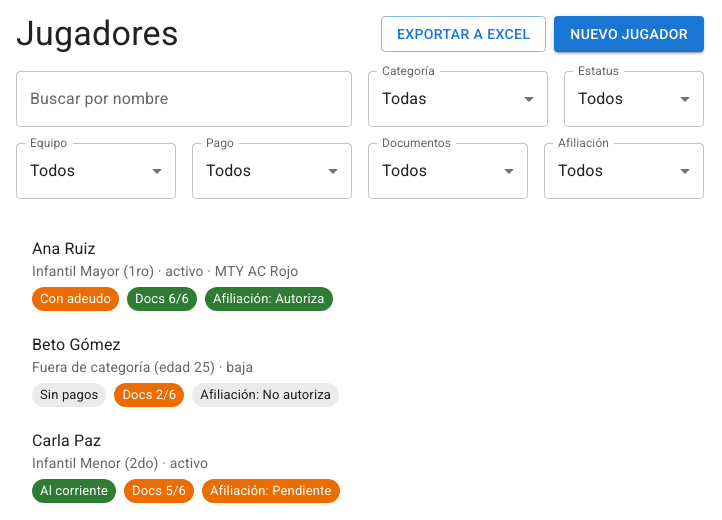
Test: status filter narrows to activos and Todos restores everyone
Check: the text "Beto Gómez" is shown, box 32,335 -> 121,354
Select "Activo" in the dropdown labelled "Estatus". click: (634, 99)
box: 564,71 -> 704,127
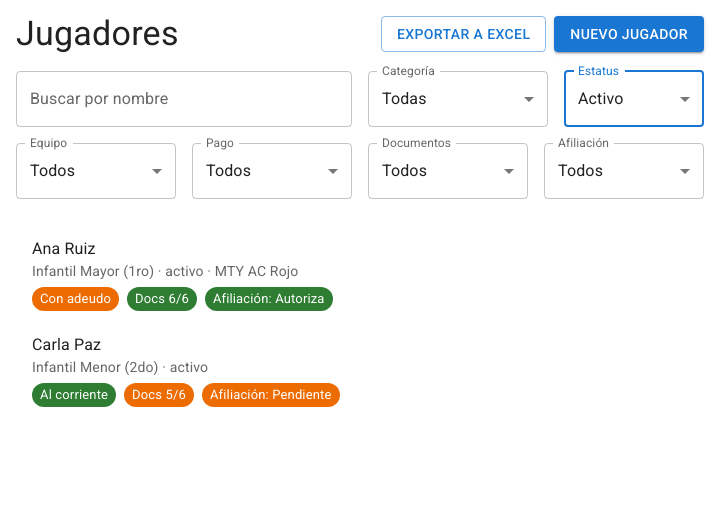
Check: the text "Ana Ruiz" is shown, box 32,239 -> 96,258
Check: the link "Beto Gómez" is gone
Select "Todos" in the dropdown labelled "Estatus". click: (634, 99)
box: 564,71 -> 704,127
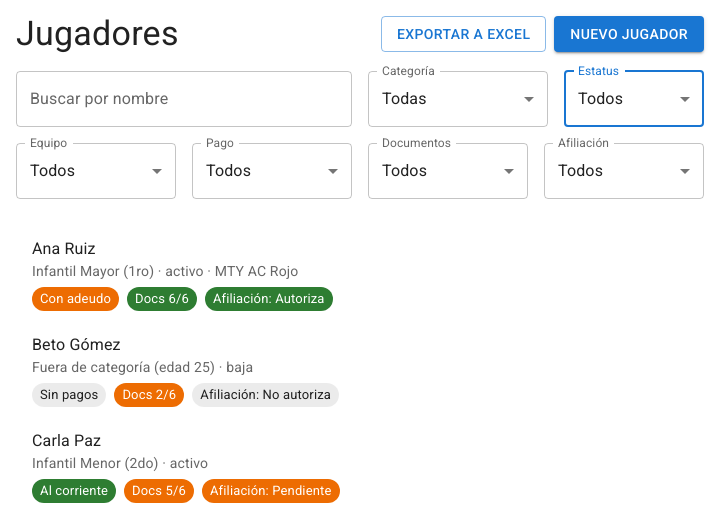
Check: the text "Ana Ruiz" is shown, box 32,239 -> 96,258
Check: the text "Beto Gómez" is shown, box 32,335 -> 121,354
